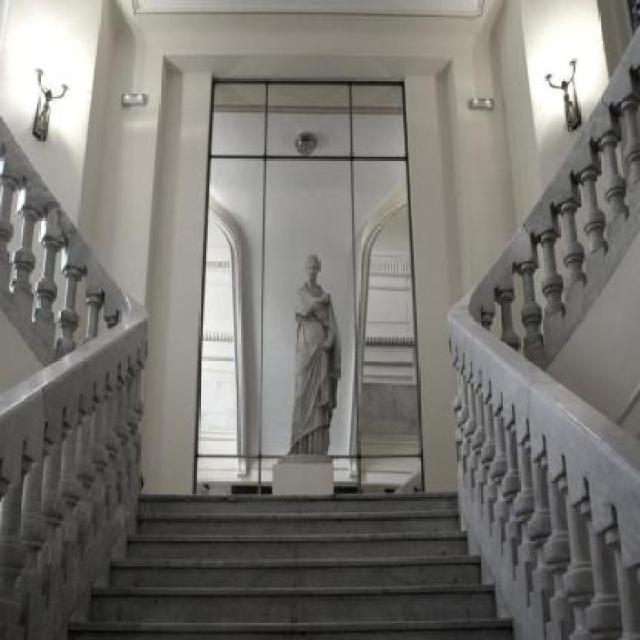stair: (64, 492, 516, 638)
